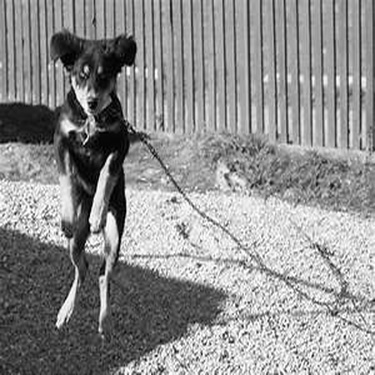dog: (26, 22, 152, 349)
